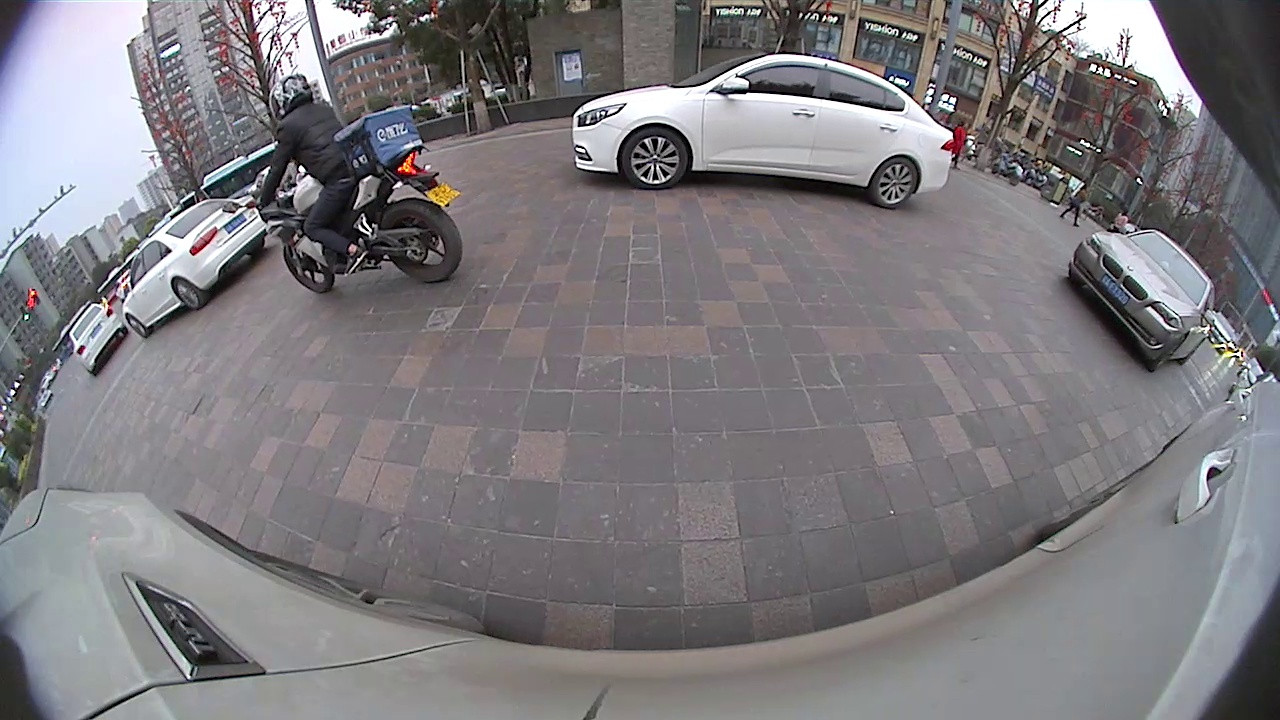car: (568, 50, 958, 211), (1065, 226, 1217, 376), (118, 196, 271, 339), (66, 299, 132, 376)
front: (618, 123, 693, 194), (279, 236, 338, 297)
rear: (373, 194, 466, 287), (867, 155, 920, 210), (168, 274, 206, 312)
rider: (257, 71, 465, 297)
